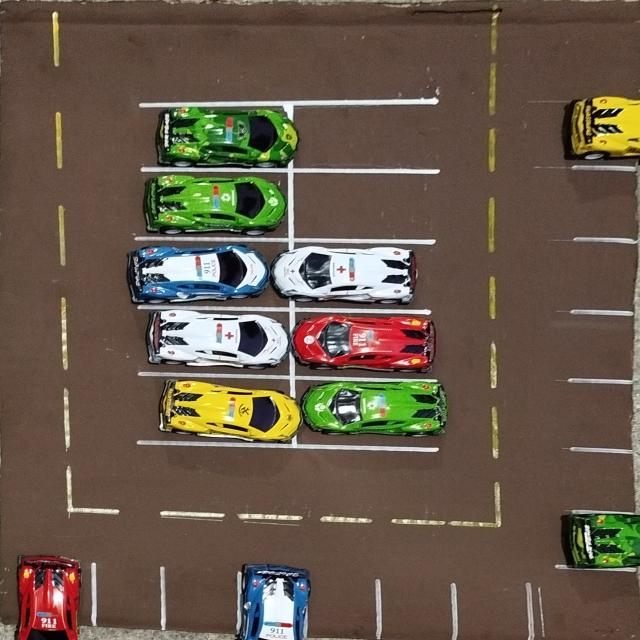libre: (291, 170, 443, 243), (290, 101, 445, 169), (159, 563, 237, 640), (567, 236, 640, 314), (92, 561, 165, 639), (567, 168, 640, 238), (566, 381, 640, 450), (567, 312, 640, 381), (450, 578, 530, 640), (378, 575, 453, 640), (308, 571, 378, 640), (565, 450, 640, 512)
no_estacionarse: (534, 567, 640, 640)
ocupado: (138, 237, 292, 308), (290, 308, 432, 385), (141, 307, 292, 378), (292, 376, 443, 447), (140, 376, 296, 443), (140, 170, 291, 239), (292, 237, 429, 310), (139, 104, 289, 170), (2, 551, 93, 640), (237, 561, 309, 640), (564, 98, 640, 168), (563, 510, 640, 571)
